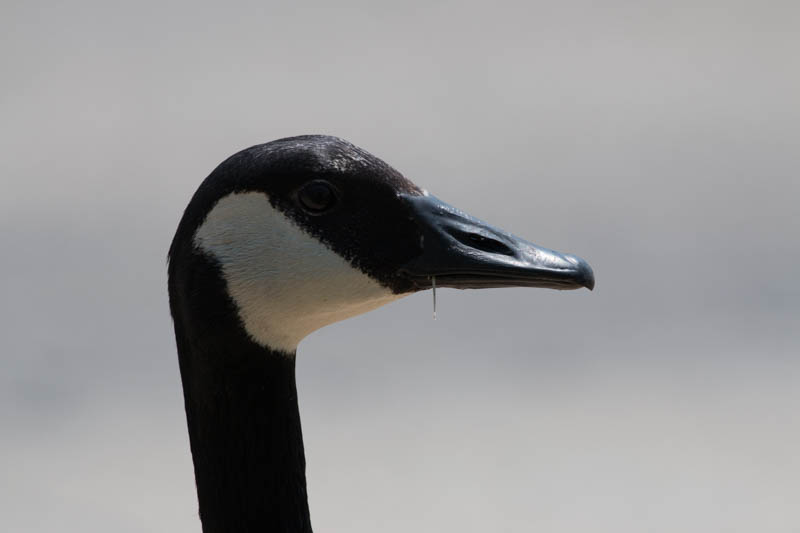goose-head: (168, 134, 596, 354)
